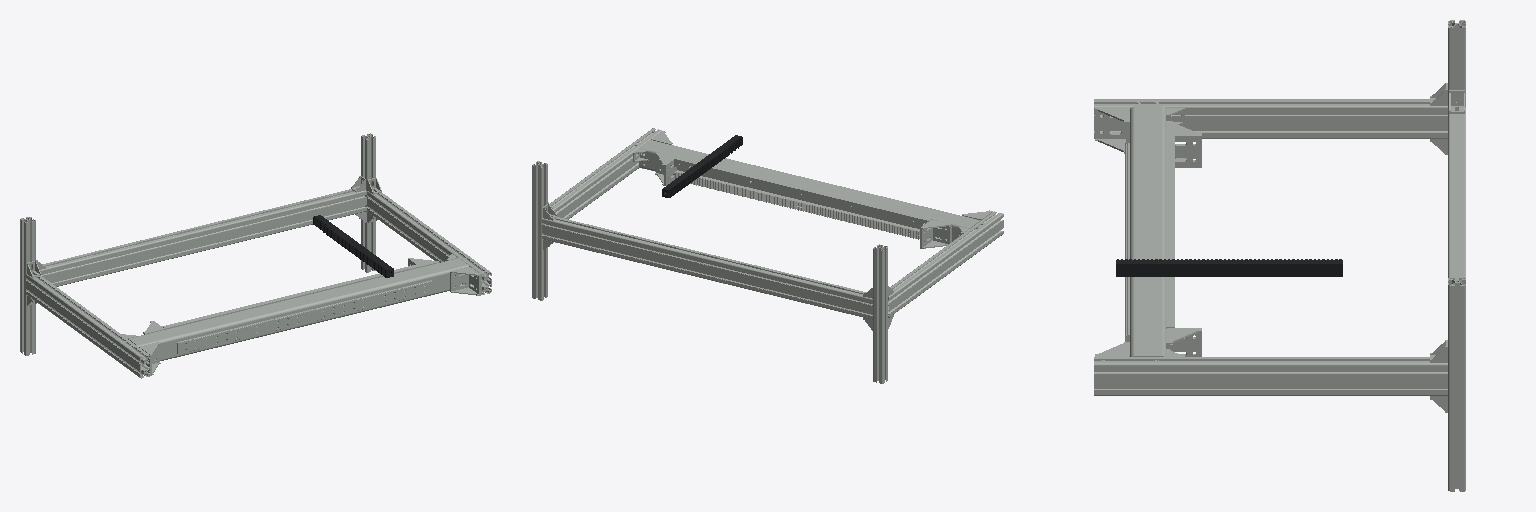
The robot description file, URDF, robot "xz_motion_mechanism":
<?xml version="1.0"?>
<robot name="xz_motion_mechanism">
  <material name="base_metal"><color rgba="0.70 0.72 0.70 1"/></material>
  <material name="x_stage_blue"><color rgba="0.10 0.36 0.62 1"/></material>
  <material name="y_stage_dark"><color rgba="0.18 0.19 0.20 1"/></material>

  <link name="world"/>

  <joint name="world_to_base" type="fixed">
    <parent link="world"/>
    <child link="base_link"/>
    <origin xyz="0 0 0" rpy="0 0 0"/>
  </joint>

  <link name="base_link">
    <visual name="base_step_visual">
      <origin xyz="-0.347488 -0.369008 -0.590000" rpy="0 0 0"/>
      <geometry>
        <mesh filename="package://xz_motion_mechanism_sim/meshes/base_visual.stl" scale="0.001 0.001 0.001"/>
      </geometry>
      <material name="base_metal"/>
    </visual>
    <inertial>
      <origin xyz="0 0 0" rpy="0 0 0"/>
      <mass value="38.0"/>
      <inertia ixx="3.2" ixy="0" ixz="0" iyy="8.8" iyz="0" izz="9.5"/>
    </inertial>
  </link>

  <link name="x_stage_link">
    <visual name="x_stage_step_visual">
      <origin xyz="-0.347488 -0.369008 -0.590000" rpy="0 0 0"/>
      <geometry>
        <mesh filename="package://xz_motion_mechanism_sim/meshes/x_stage_visual.stl" scale="0.001 0.001 0.001"/>
      </geometry>
      <material name="x_stage_blue"/>
    </visual>
    <inertial>
      <origin xyz="0 -0.114 0.049" rpy="0 0 0"/>
      <mass value="24.0"/>
      <inertia ixx="1.35" ixy="0" ixz="0" iyy="2.05" iyz="0" izz="2.35"/>
    </inertial>
  </link>

  <joint name="x_axis_joint" type="prismatic">
    <parent link="base_link"/>
    <child link="x_stage_link"/>
    <origin xyz="0 0 0" rpy="0 0 0"/>
    <axis xyz="1 0 0"/>
    <limit lower="-0.50" upper="0.50" effort="250" velocity="1.0"/>
    <dynamics damping="35.0" friction="6.0"/>
  </joint>

  <link name="y_stage_link">
    <visual name="y_stage_step_visual">
      <origin xyz="-0.347488 -0.369008 -0.590000" rpy="0 0 0"/>
      <geometry>
        <mesh filename="package://xz_motion_mechanism_sim/meshes/y_stage_visual.stl" scale="0.001 0.001 0.001"/>
      </geometry>
      <material name="y_stage_dark"/>
    </visual>
    <inertial>
      <origin xyz="0.285 -0.136 -0.003" rpy="0 0 0"/>
      <mass value="1.2"/>
      <inertia ixx="0.028" ixy="0" ixz="0" iyy="0.028" iyz="0" izz="0.001"/>
    </inertial>
  </link>

  <joint name="y_axis_joint" type="prismatic">
    <parent link="x_stage_link"/>
    <child link="y_stage_link"/>
    <origin xyz="0 0 0" rpy="0 0 0"/>
    <axis xyz="0 1 0"/>
    <limit lower="-0.24" upper="0.24" effort="180" velocity="0.8"/>
    <dynamics damping="28.0" friction="5.0"/>
  </joint>

  <transmission name="x_axis_transmission">
    <type>transmission_interface/SimpleTransmission</type>
    <joint name="x_axis_joint">
      <hardwareInterface>hardware_interface/PositionJointInterface</hardwareInterface>
    </joint>
    <actuator name="x_axis_joint_motor">
      <hardwareInterface>hardware_interface/PositionJointInterface</hardwareInterface>
      <mechanicalReduction>1</mechanicalReduction>
    </actuator>
  </transmission>
  <transmission name="y_axis_transmission">
    <type>transmission_interface/SimpleTransmission</type>
    <joint name="y_axis_joint">
      <hardwareInterface>hardware_interface/PositionJointInterface</hardwareInterface>
    </joint>
    <actuator name="y_axis_joint_motor">
      <hardwareInterface>hardware_interface/PositionJointInterface</hardwareInterface>
      <mechanicalReduction>1</mechanicalReduction>
    </actuator>
  </transmission>

  <gazebo>
    <self_collide>false</self_collide>
    <plugin name="gazebo_ros_control" filename="libgazebo_ros_control.so">
      <robotNamespace>/xz_motion_mechanism</robotNamespace>
    </plugin>
  </gazebo>
</robot>

--- What the picture shows (computed from the rendered views, not written in the file) ---
The picture shows the robot from 3 angles, left to right: view 1: azimuth 30°, elevation 25°; view 2: azimuth 150°, elevation 25°; view 3: azimuth 270°, elevation 25°; orthographic projection.
Model xz_motion_mechanism with 4 links and 3 joints (2 prismatic, 1 fixed), rooted at world, posed all joints at 0.
Visible links, largest first — view 1: base_link, y_stage_link; view 2: base_link, y_stage_link; view 3: base_link, y_stage_link.
Boxes of the visible links, left/top/right/bottom form: base_link: left=20, top=133, right=491, bottom=378; y_stage_link: left=313, top=215, right=393, bottom=277; base_link: left=532, top=128, right=1003, bottom=383; y_stage_link: left=662, top=135, right=742, bottom=197; base_link: left=1094, top=20, right=1465, bottom=491; y_stage_link: left=1116, top=259, right=1342, bottom=276.
Bounding box of the posed robot: 1.38 × 0.82 × 0.5 m (x, y, z).
2 mesh visuals loaded from 3 distinct referenced files (2 binary STL); not drawn: 1 (reference not matched to a file when rendering).
